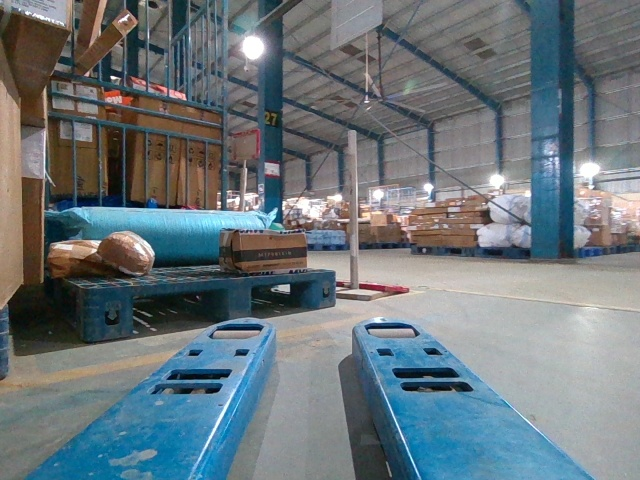block: (86, 286, 135, 342), (222, 278, 255, 320), (313, 270, 336, 308)
front: (86, 269, 336, 340)
hole pallet: (131, 285, 225, 332), (250, 277, 314, 316)
